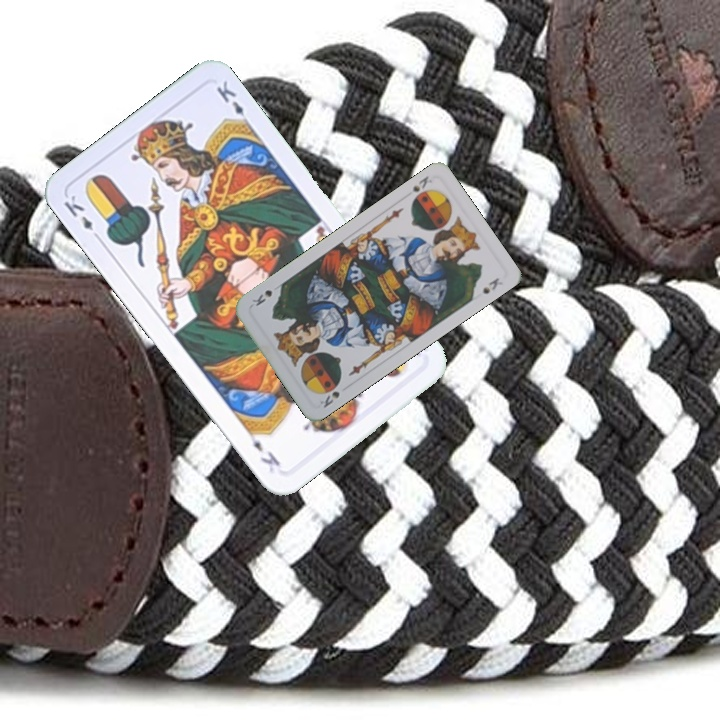EK: (60, 190, 104, 244)
SK: (400, 172, 435, 205), (316, 387, 342, 411)
